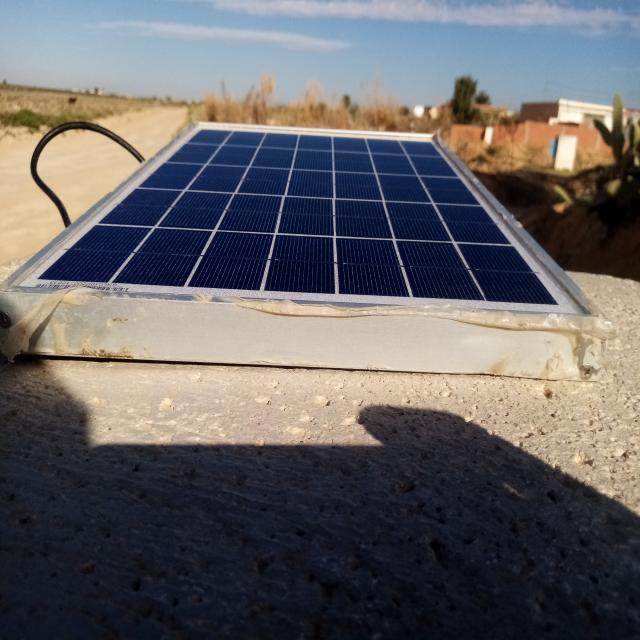Normal Solar Panel: (8, 125, 600, 322)
